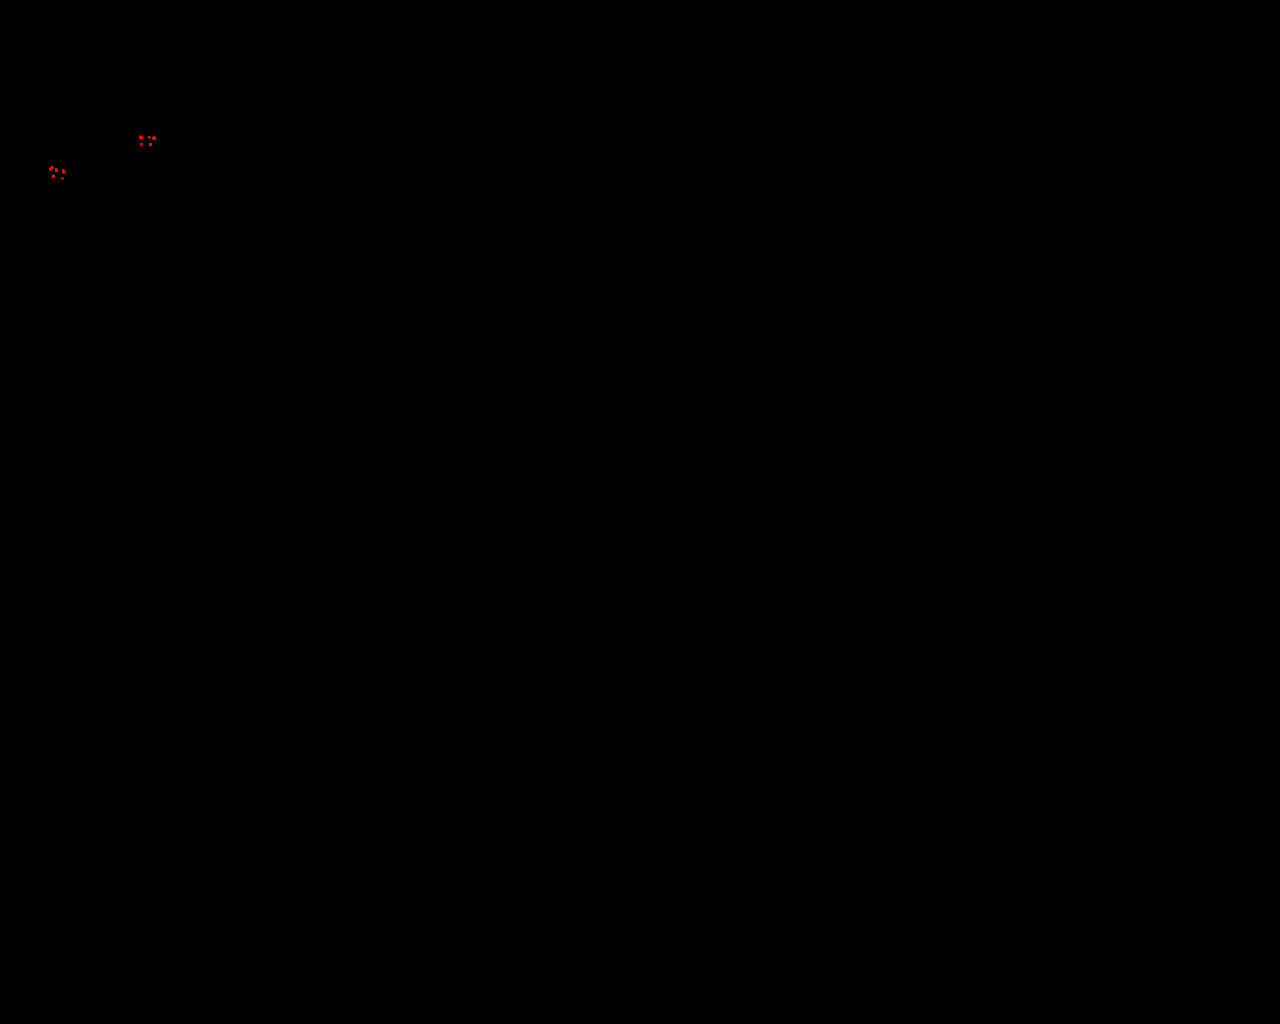Target: (49, 166, 53, 171), (139, 135, 143, 139), (152, 136, 156, 140), (62, 169, 65, 174), (55, 168, 59, 172), (148, 136, 152, 139), (140, 143, 143, 146), (52, 174, 55, 178), (149, 143, 152, 146), (61, 177, 64, 179)
